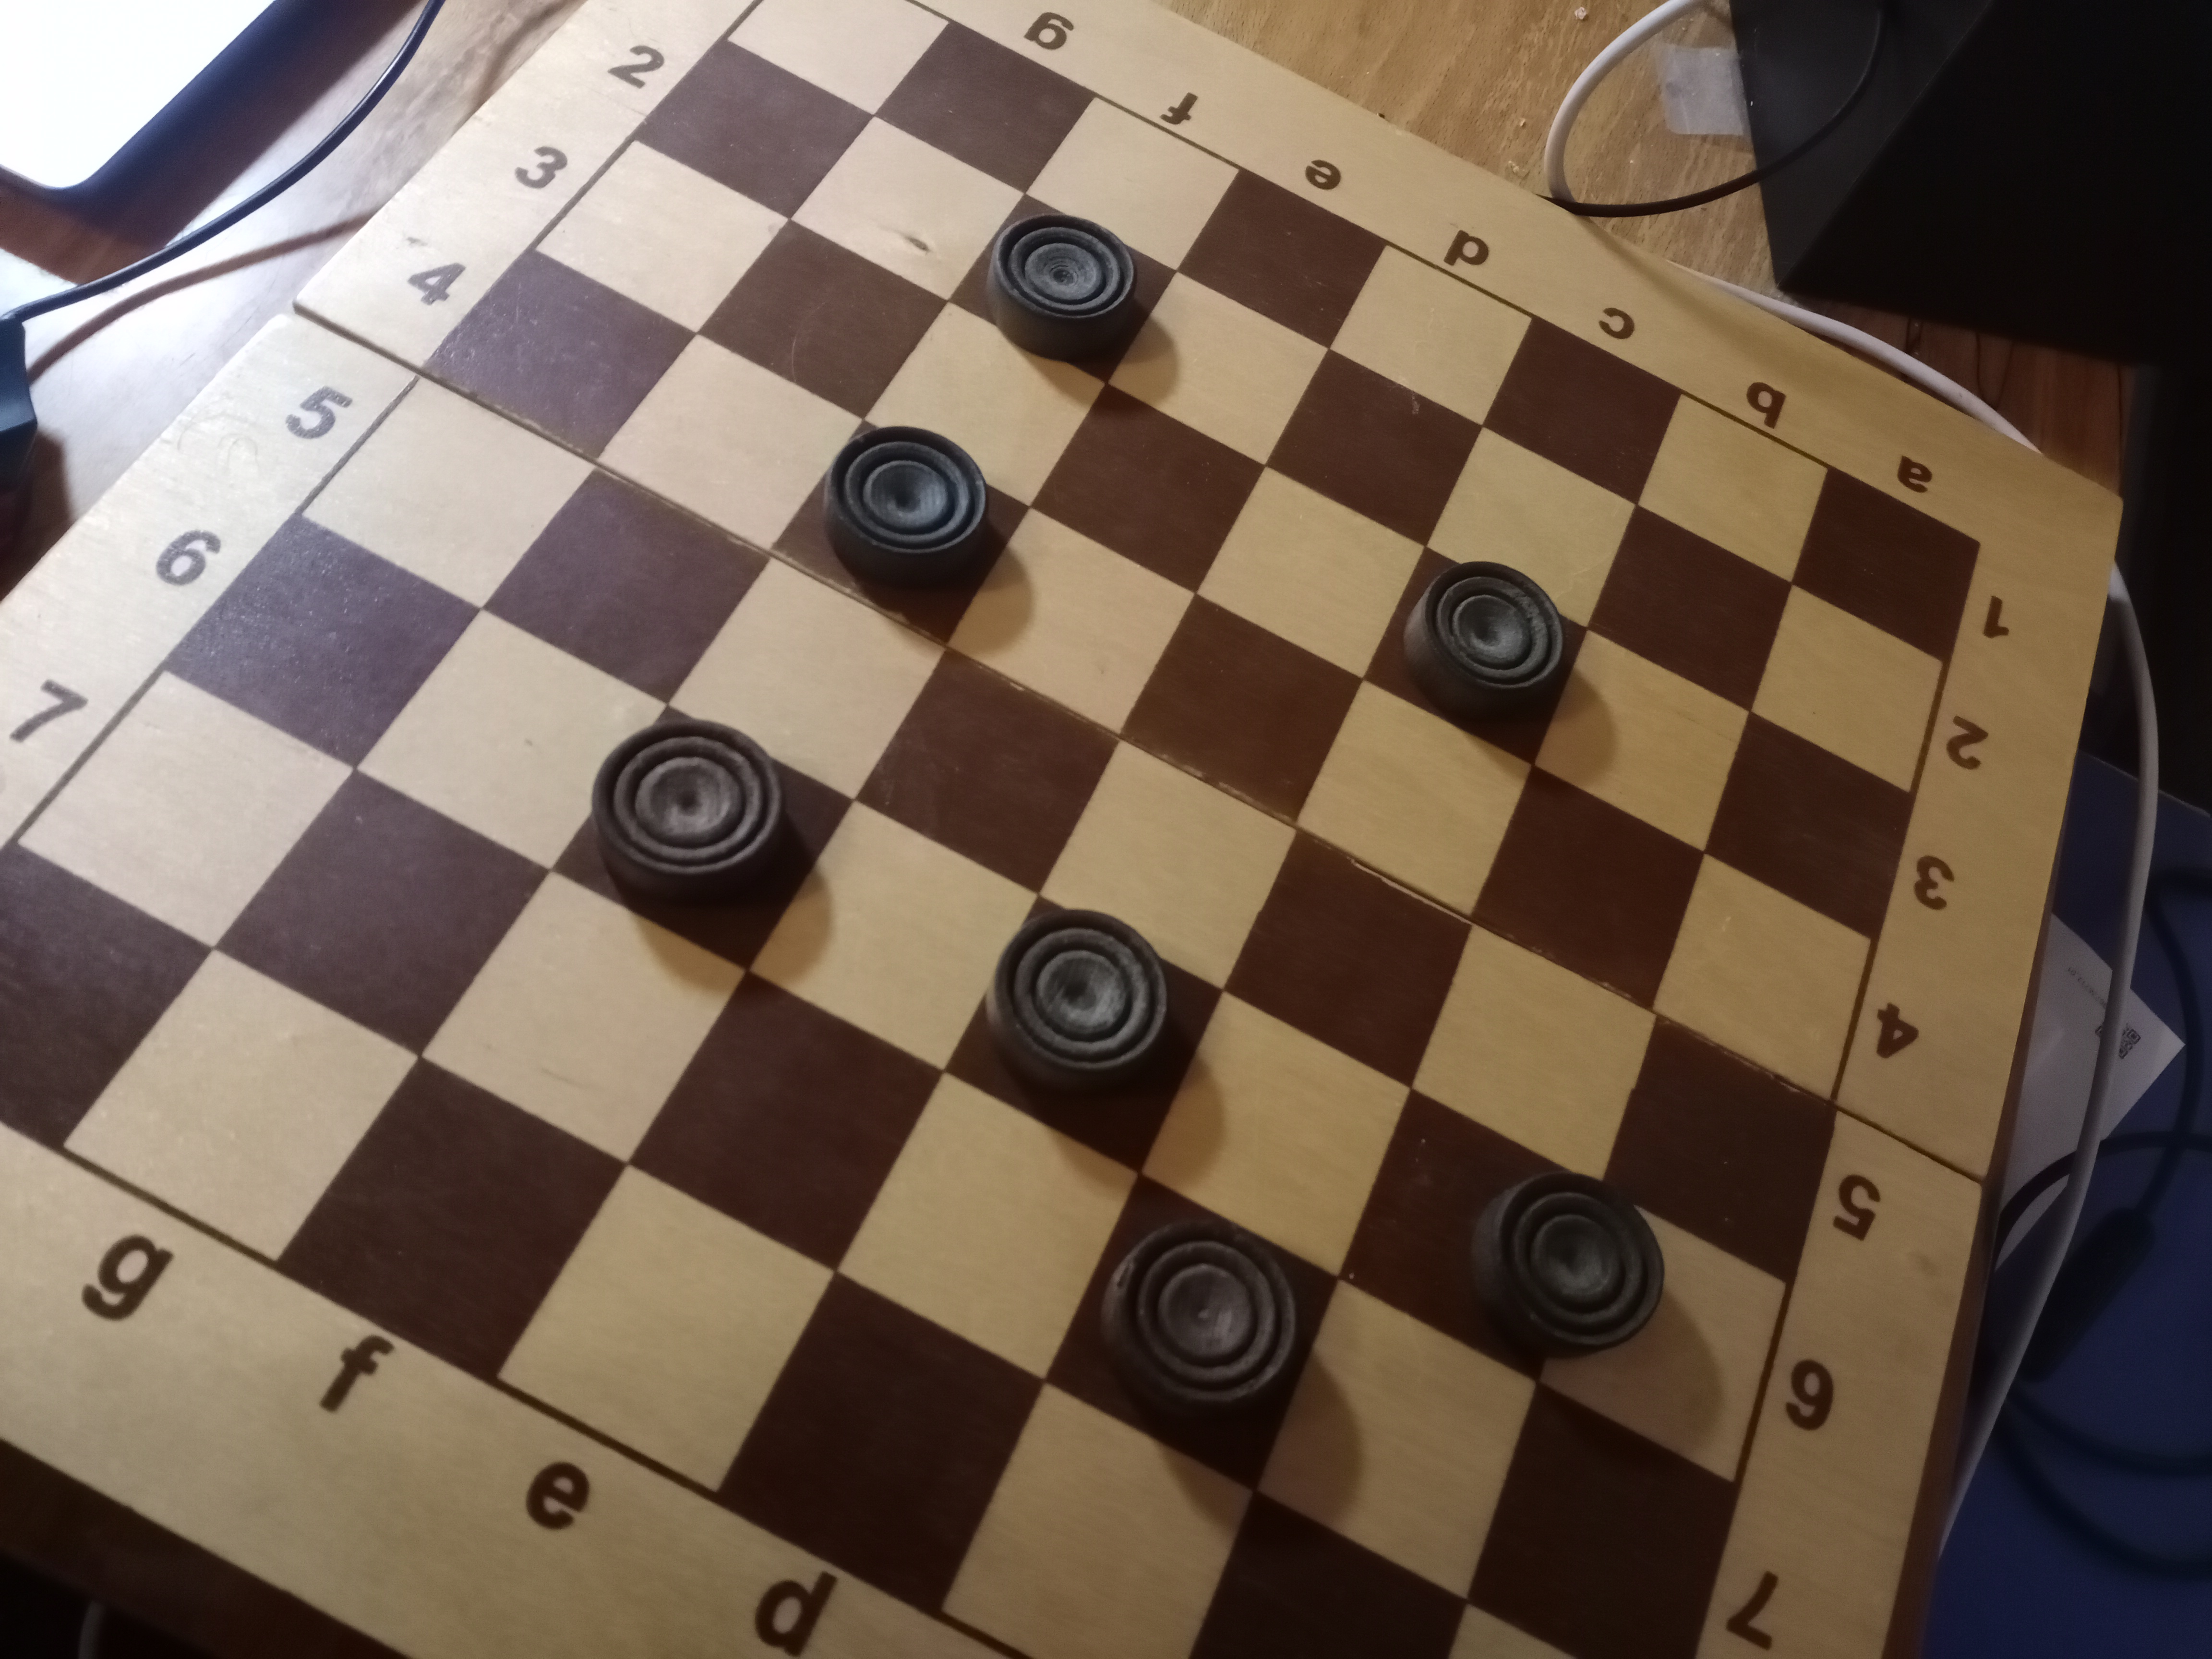Black_Draught: (1339, 1089, 1667, 1382), (1043, 1173, 1339, 1492), (550, 704, 855, 971), (942, 894, 1221, 1173), (768, 418, 1031, 647), (1362, 547, 1590, 765), (948, 193, 1177, 383)
